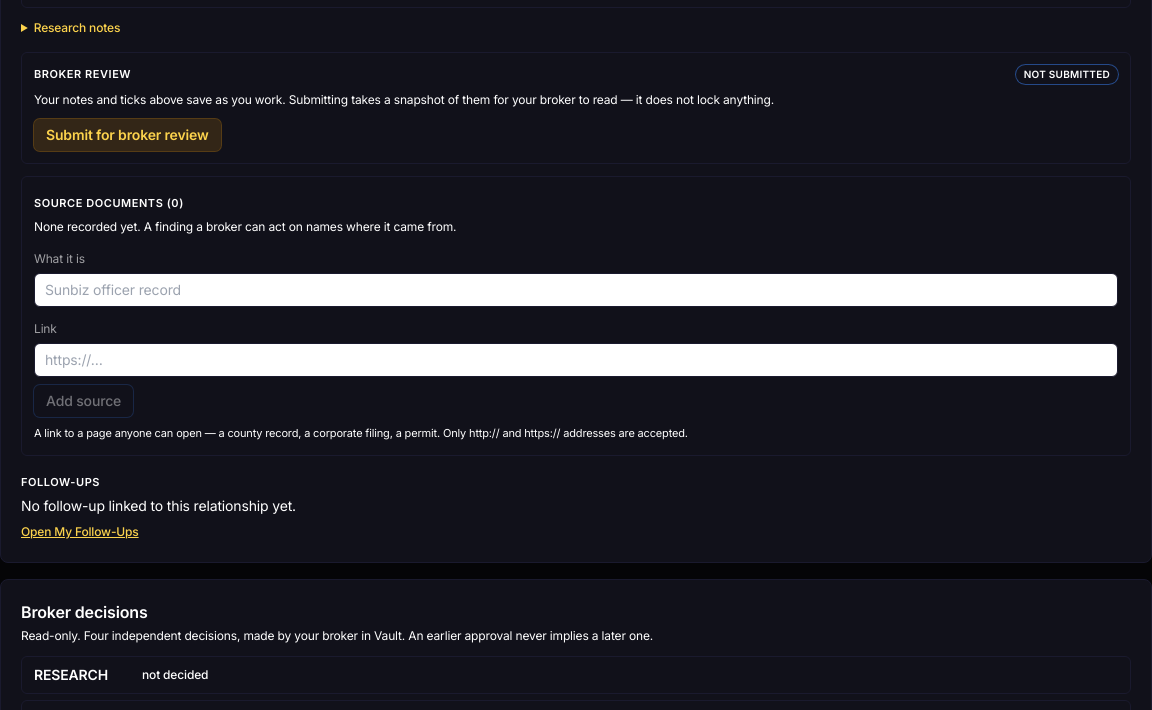
Scenario: [P12A-AP-4] source documents › [CRITICAL] shows the server's refusal of a javascript: URL and keeps what was typed
This screenshot has width=1152, height=710.
(page scrolled)
Check: the element with test id "submission" is shown, box [21, 52, 1131, 164]
Type "javascript:alert(1)" into the field with test id "source-url" at (576, 360), box [34, 343, 1118, 377]
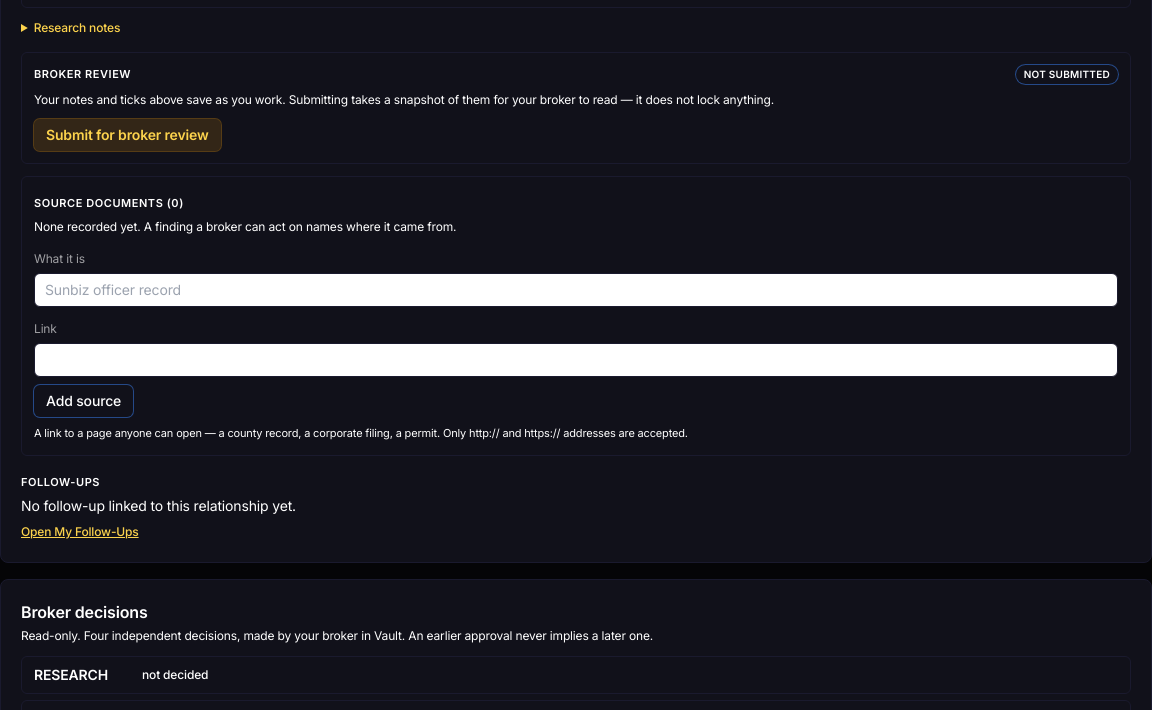
Click the button with test id "add-source-button" at (84, 401), box [34, 385, 133, 417]
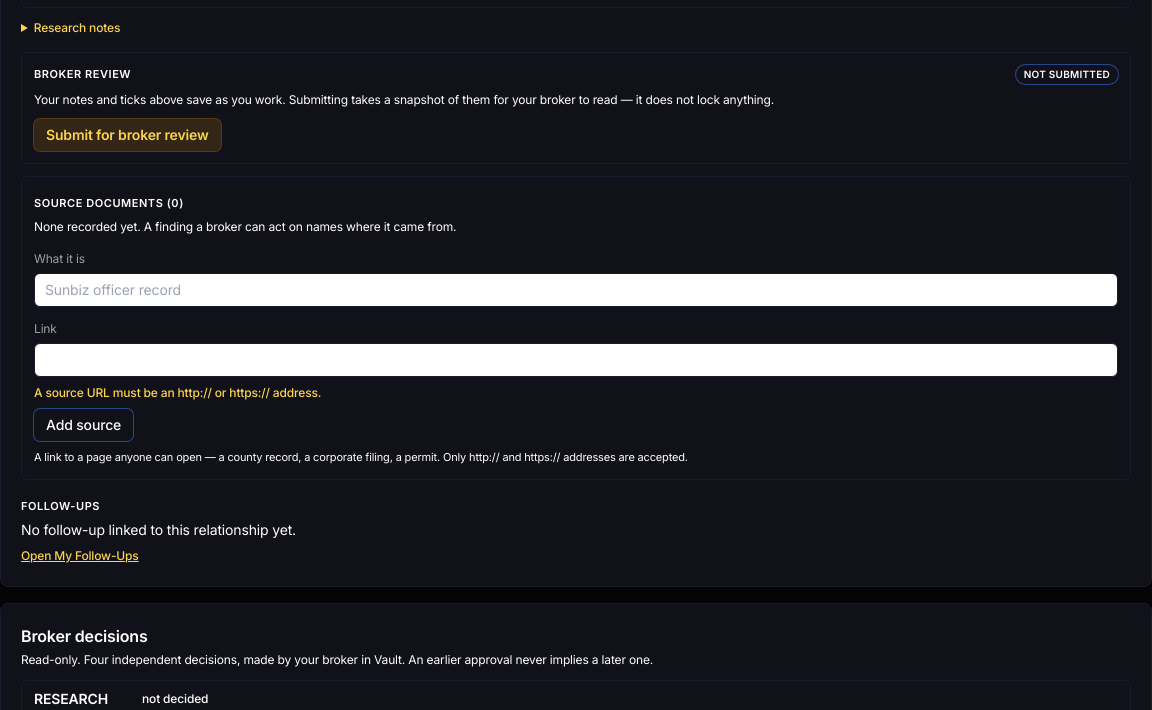
Check: the message with test id "source-error" shows "http://", box [34, 385, 321, 400]
